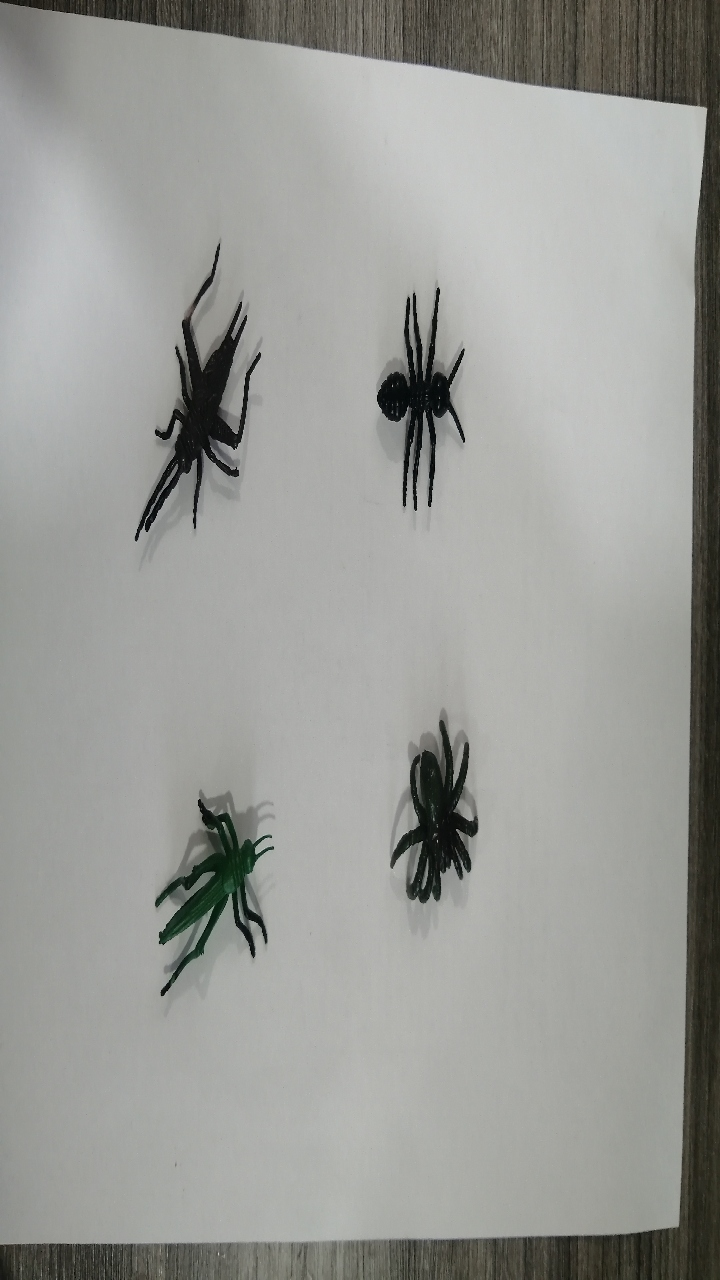intruso: (103, 234, 292, 569), (351, 271, 497, 535), (134, 777, 284, 1009), (371, 689, 503, 942)
